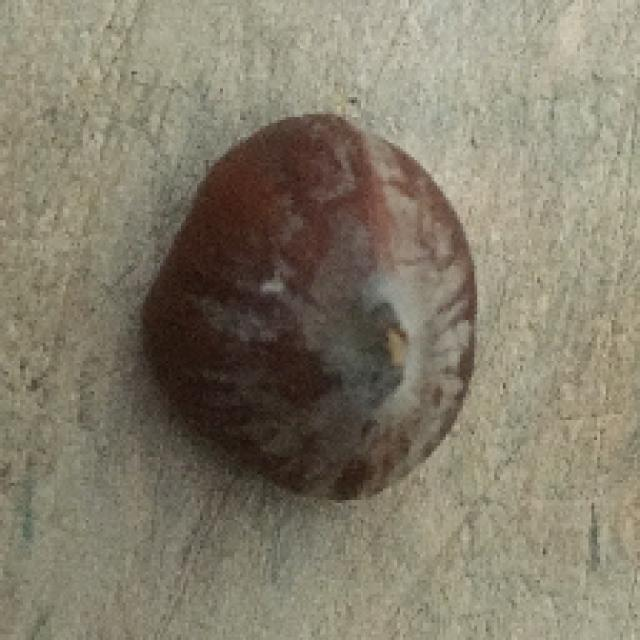qualityHazelnut: (143, 109, 474, 512)
